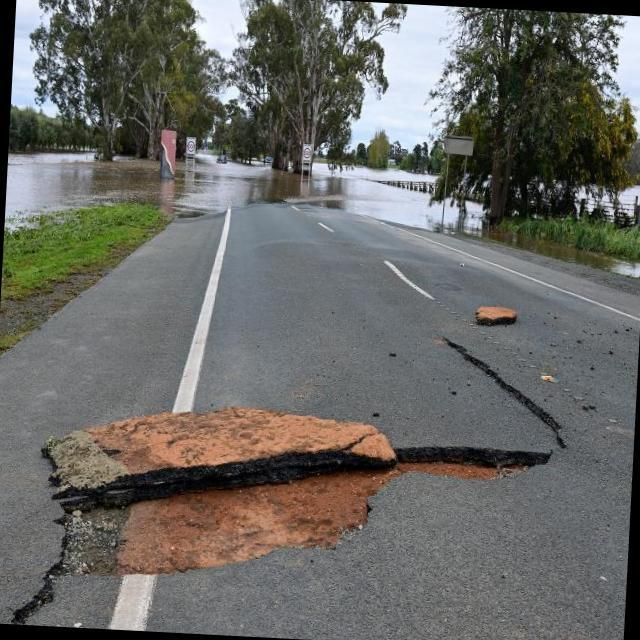Burst: (44, 407, 546, 583)
